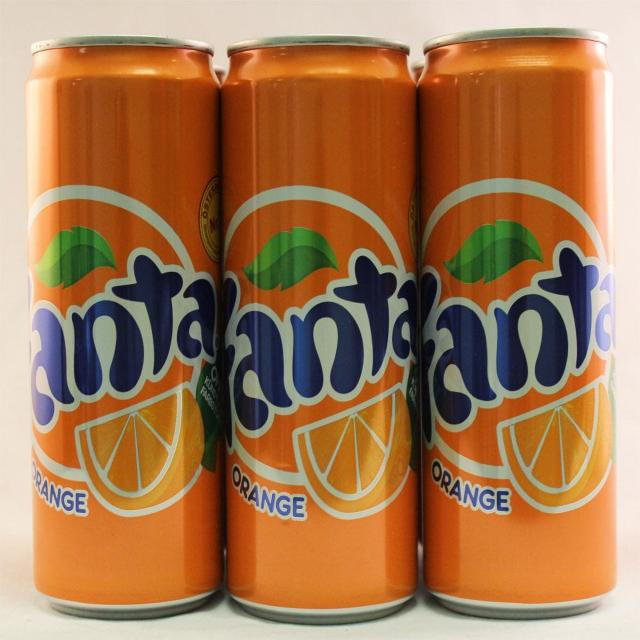fanta: (420, 28, 630, 610), (16, 24, 217, 617), (220, 34, 418, 609)
